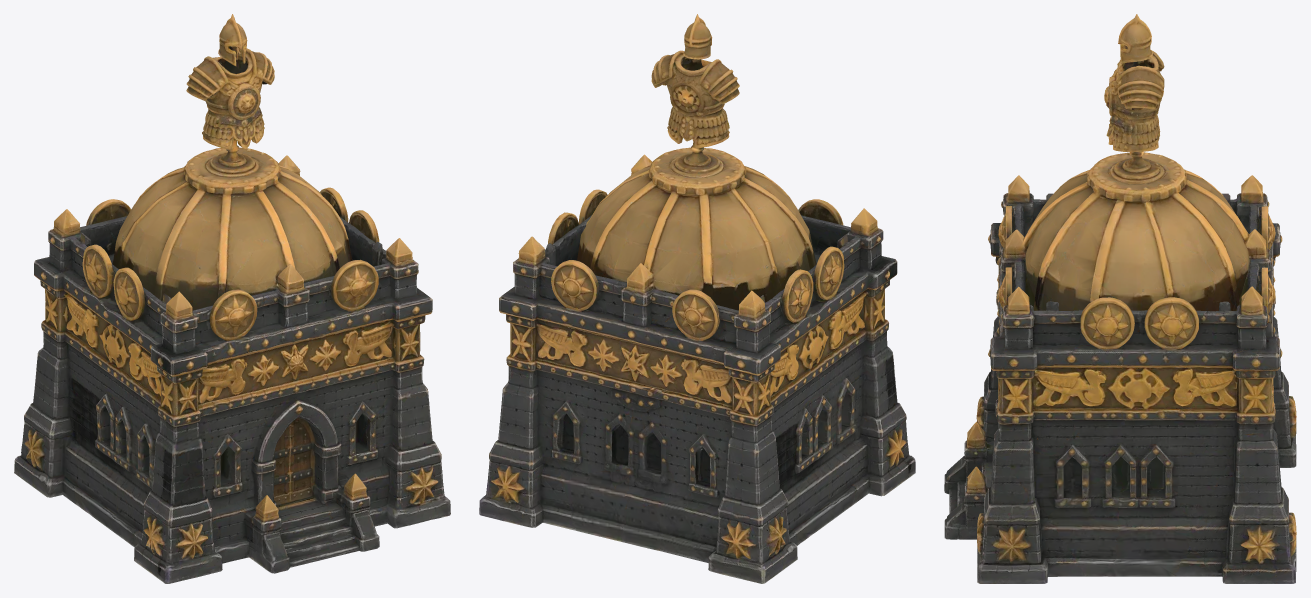
The model's file is ArmorWard.glb.
3 views of the same model, side by side, from view 1: azimuth 30°, elevation 25°; view 2: azimuth 150°, elevation 25°; view 3: azimuth 270°, elevation 25° (orthographic). The views are drawn at different scales.
Bounding box in the file's own units: 1.18 × 1.9 × 1.22.
Materials: 1 (1 with a texture image).
